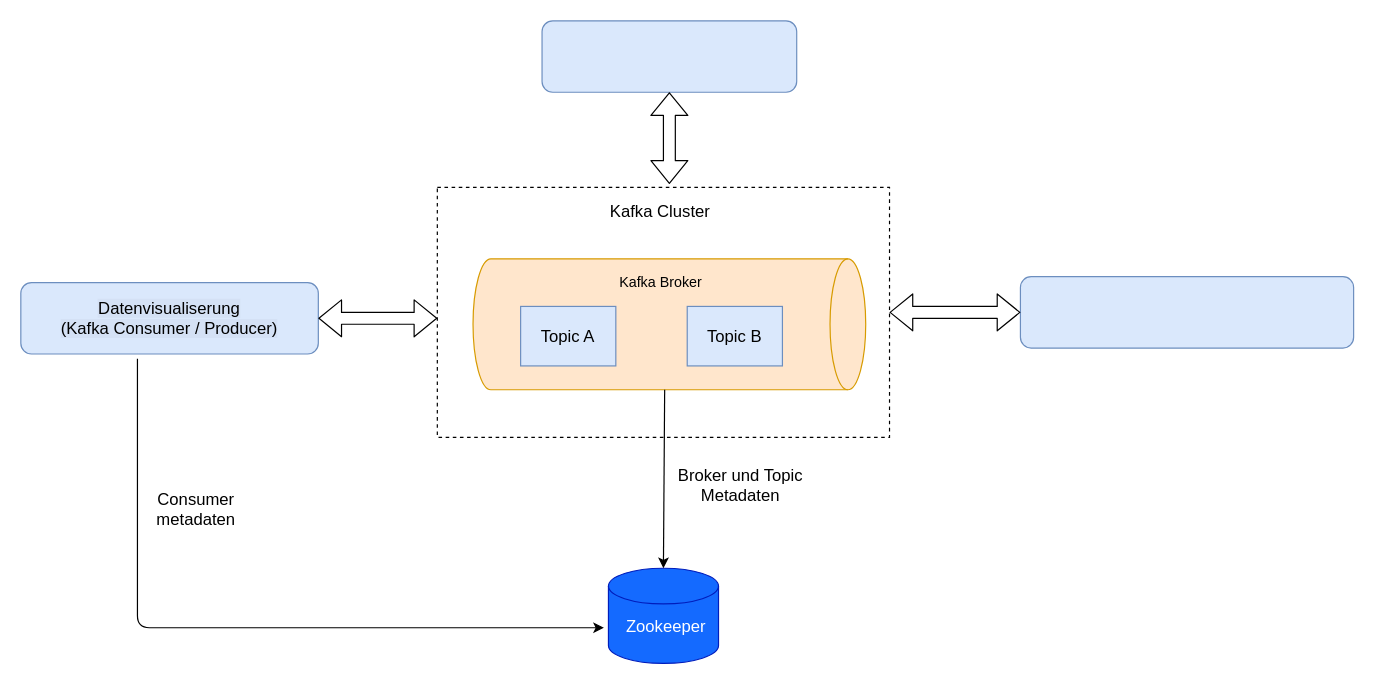
Some shapes in this 1374 by 684 pixel diagram are drawn without their labels. The centre of each missing label's shape, as x and y in pixels:
Datenaufbereitung (Kafka Consumer / Producer): point (669, 56)
Weboberfläche (Kafka Consumer / Producer): point (1186, 311)
